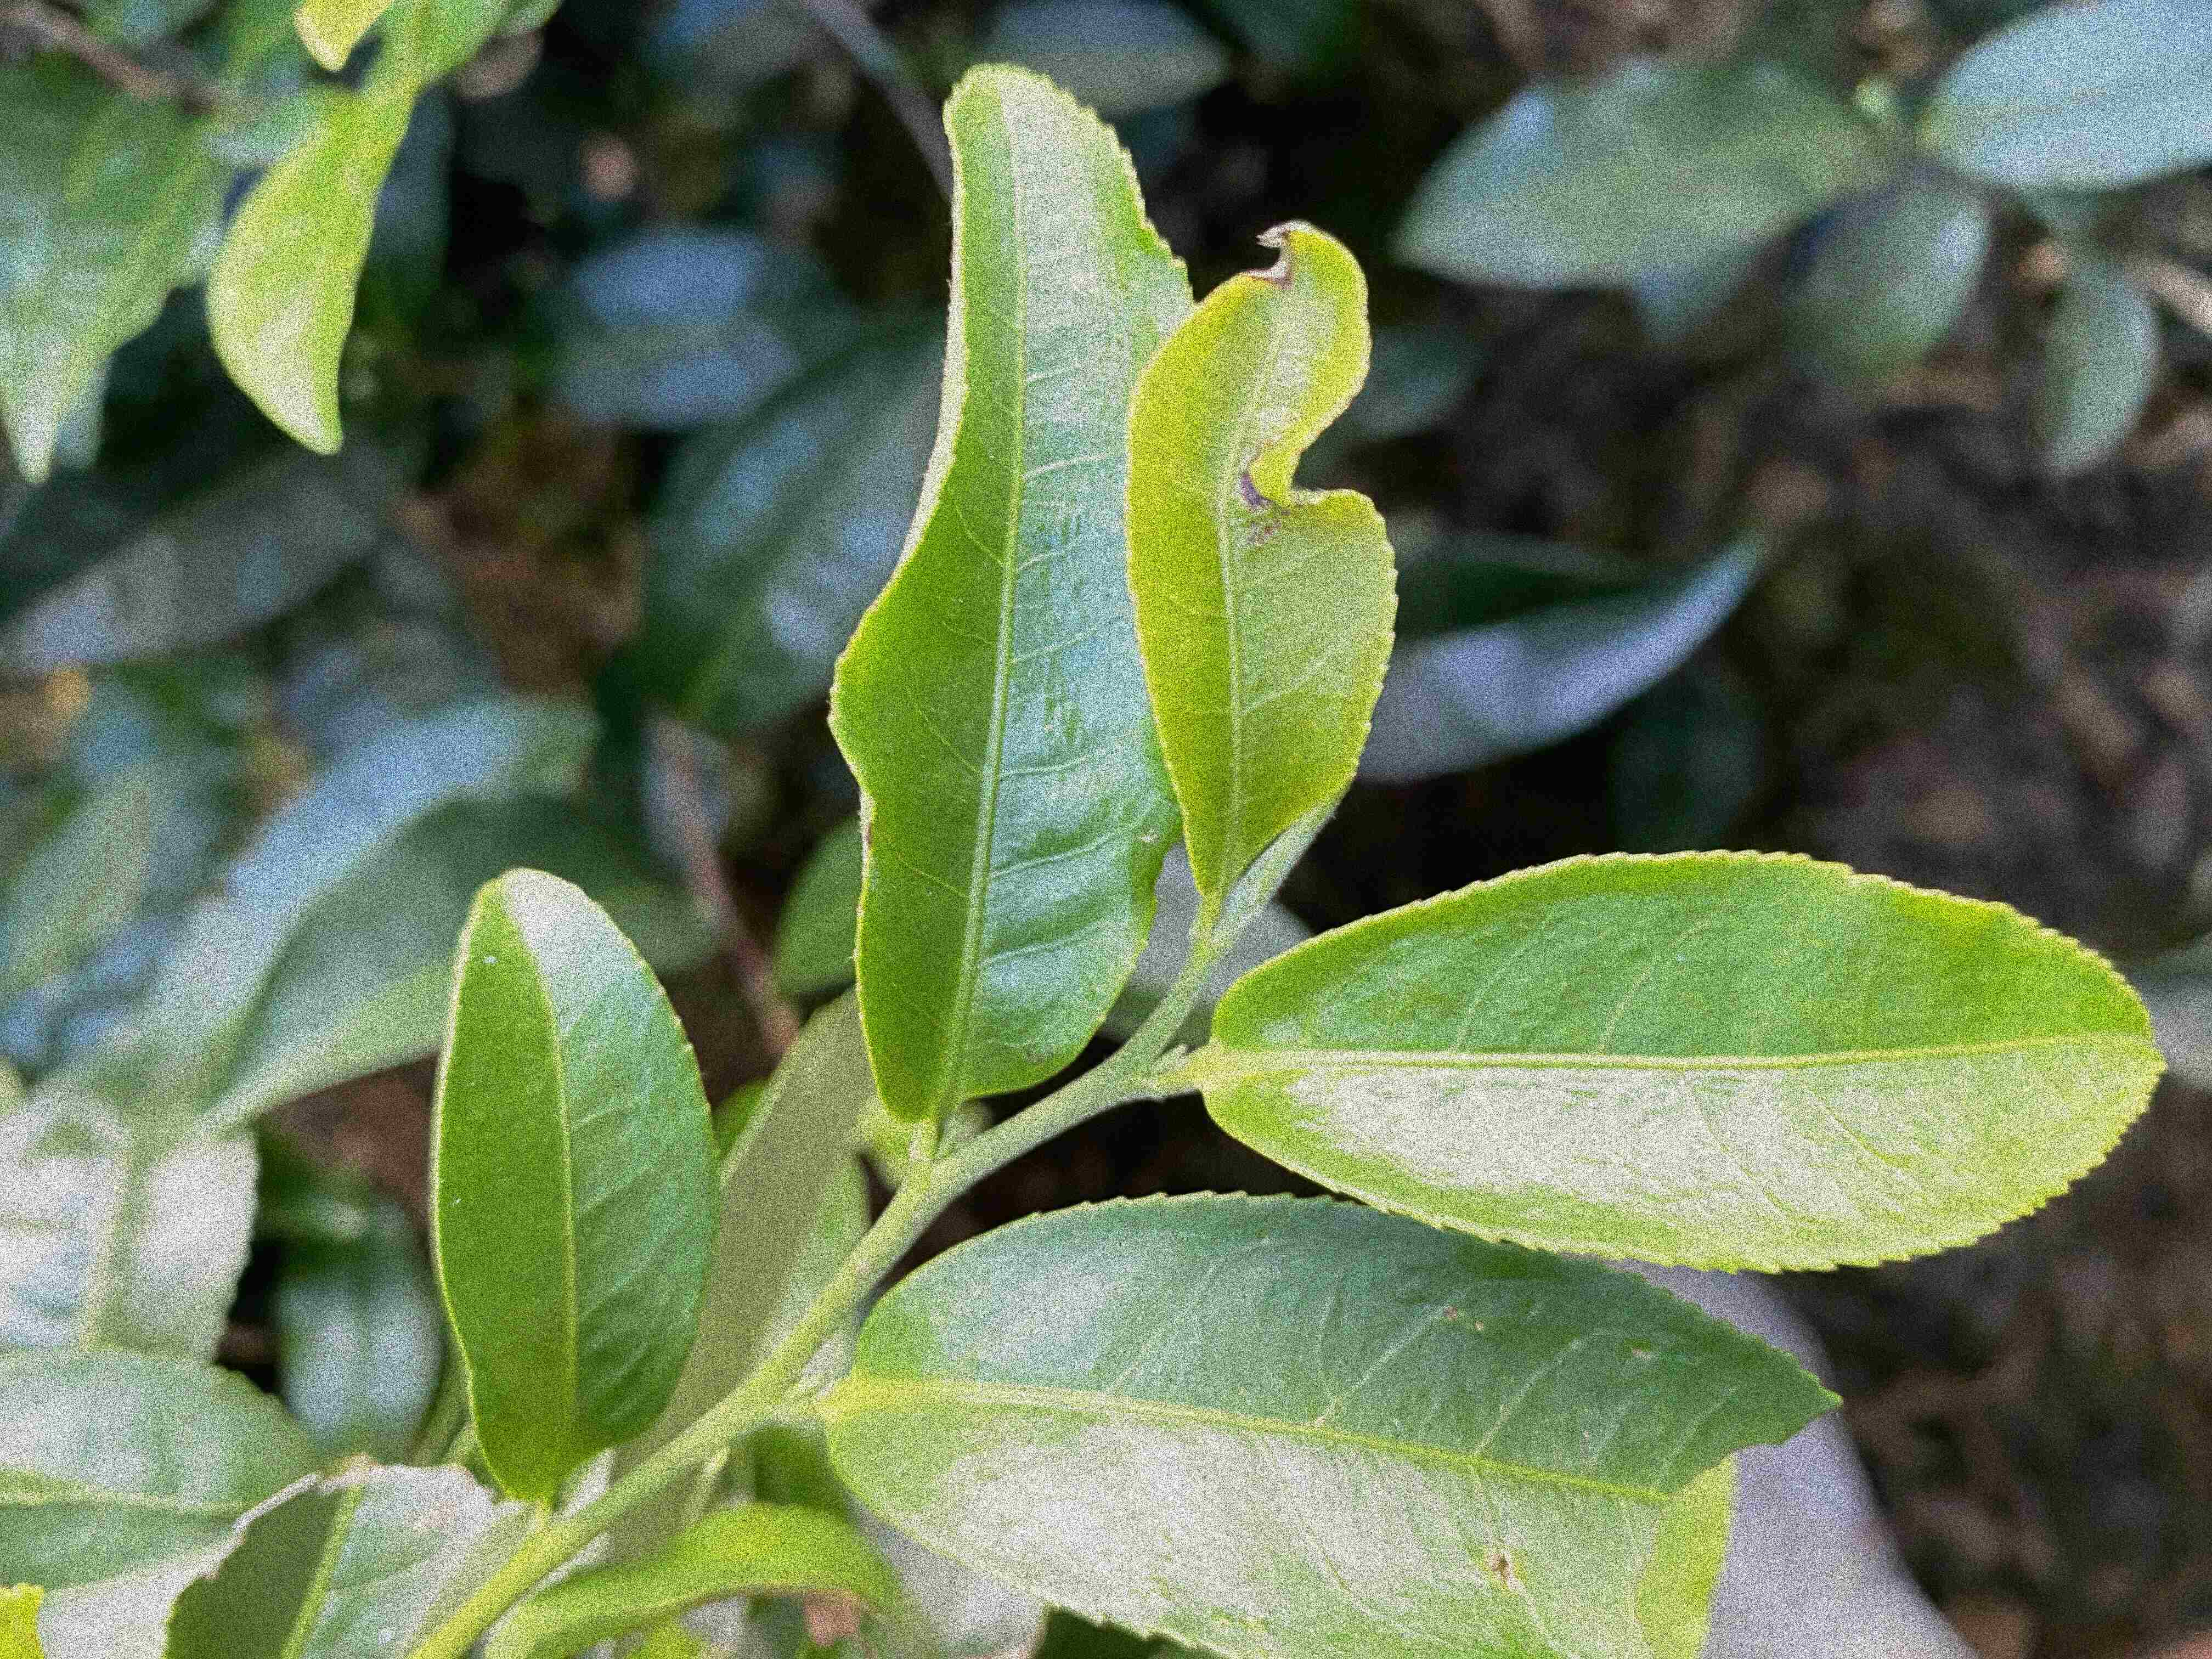chihuo_high: (822, 1187, 1851, 1657)
healthy: (1200, 842, 2172, 1277), (423, 866, 726, 1502)
tanju_high: (1120, 221, 1402, 896)
